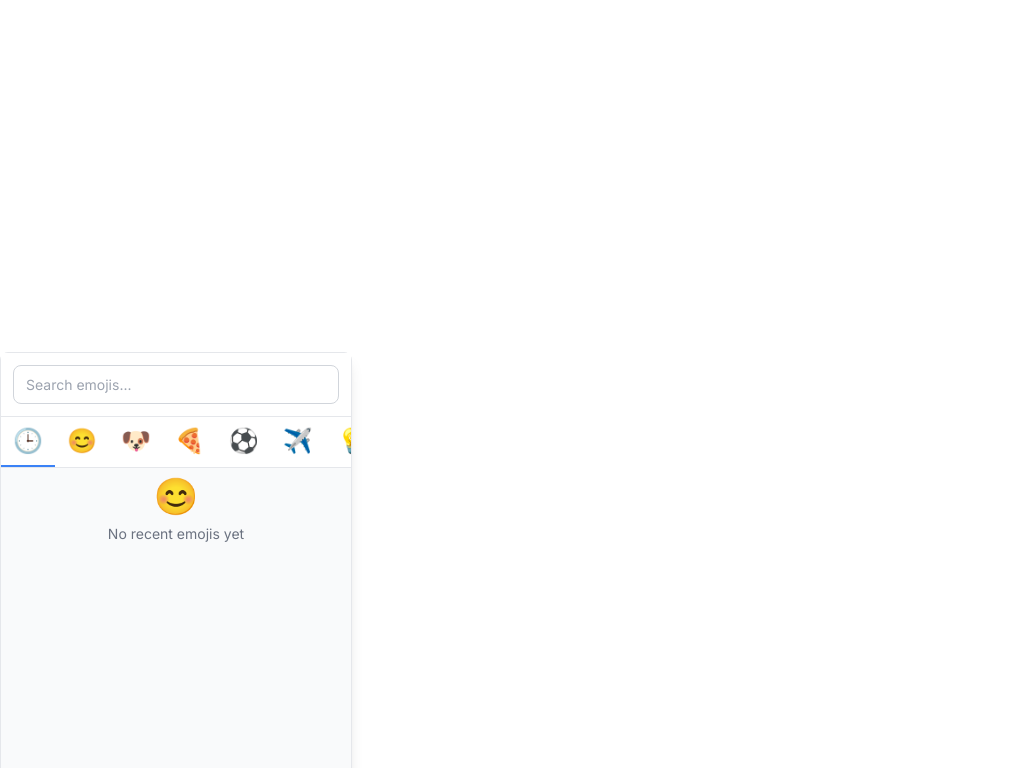
Test case: EmojiPicker › Search Functionality › should show "No emojis found" when search returns no results
(page scrolled)
Type "nonexistent" into the search field labelled "Search emojis".
click(176, 384); type("nonexistent")  # box left=13, top=365, right=339, bottom=404
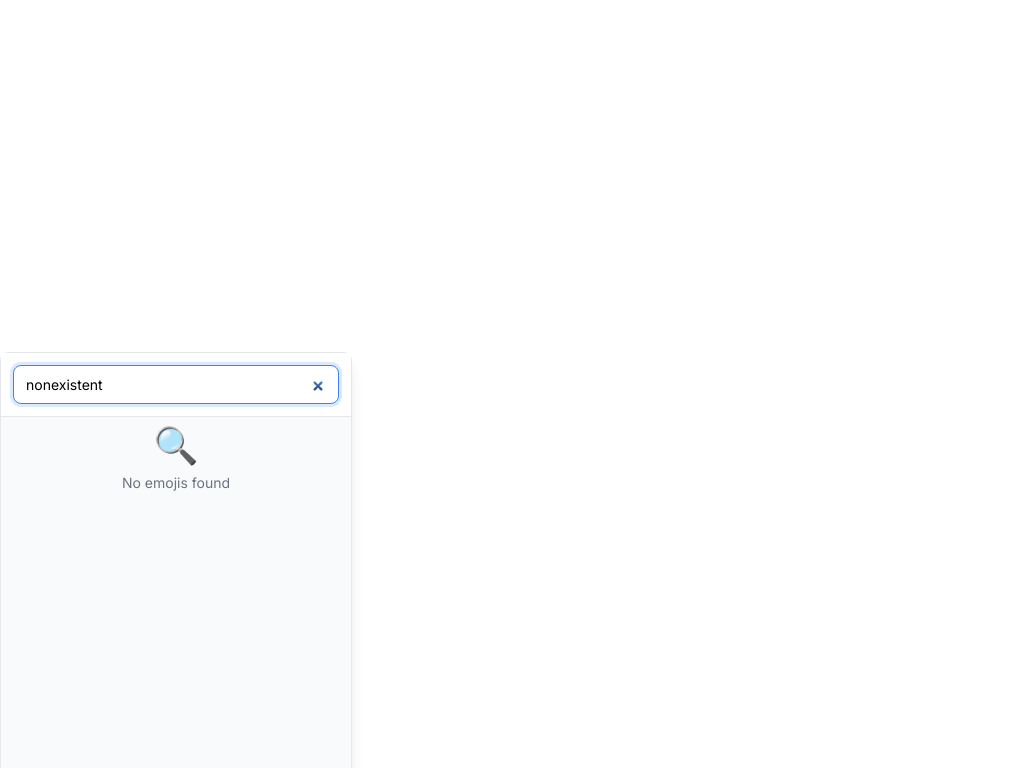
Check: the text "No emojis found" is shown, box left=122, top=473, right=230, bottom=493
